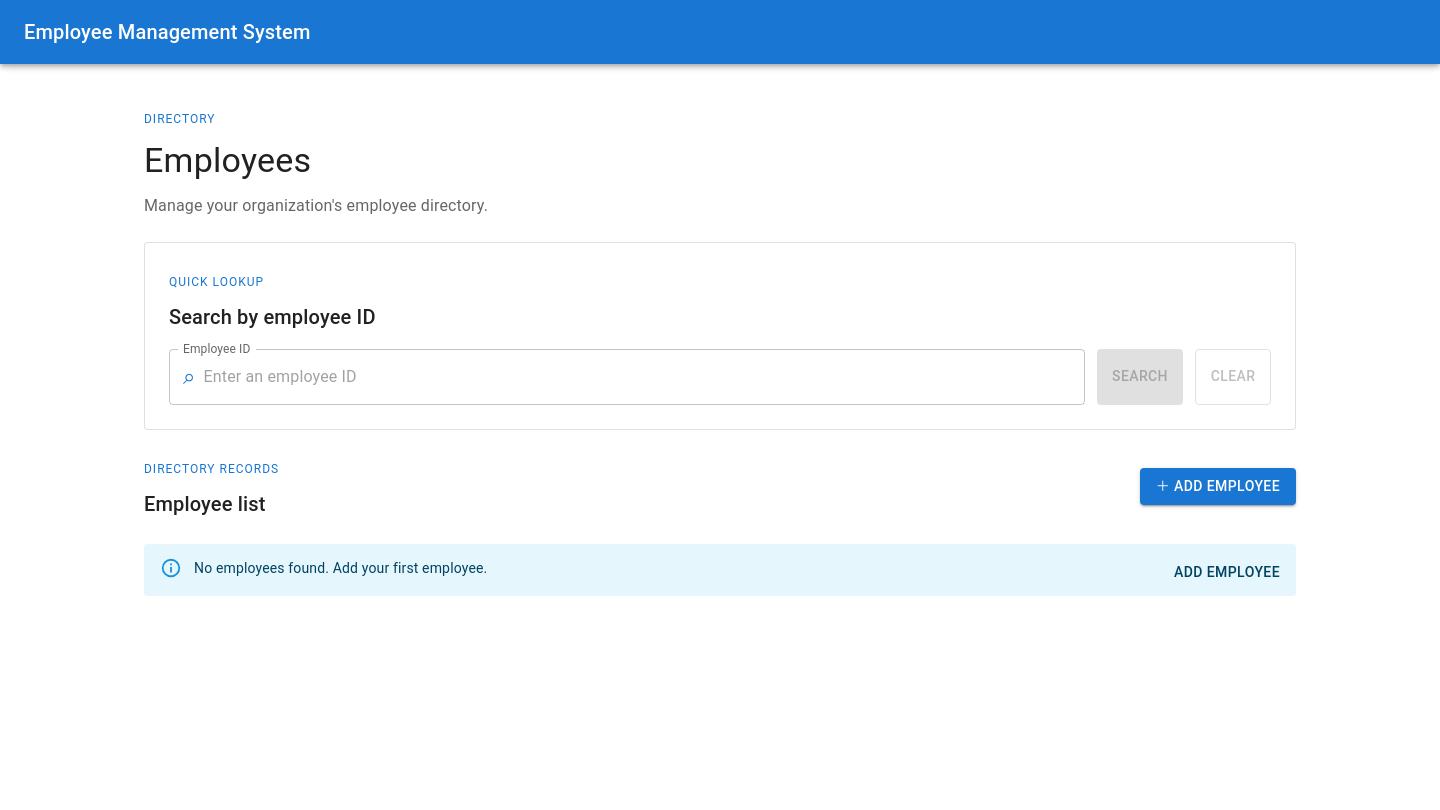
Test case: App CRUD UI flows › shows an actionable empty employee state
expect the text "No employees found. Add your first employee." is shown: met, box [194, 560, 487, 576]
What coordinates should you click on to do the following:
click the button "Add Employee"
I would click on:
 (1227, 572)
Its box is [1166, 554, 1288, 590].
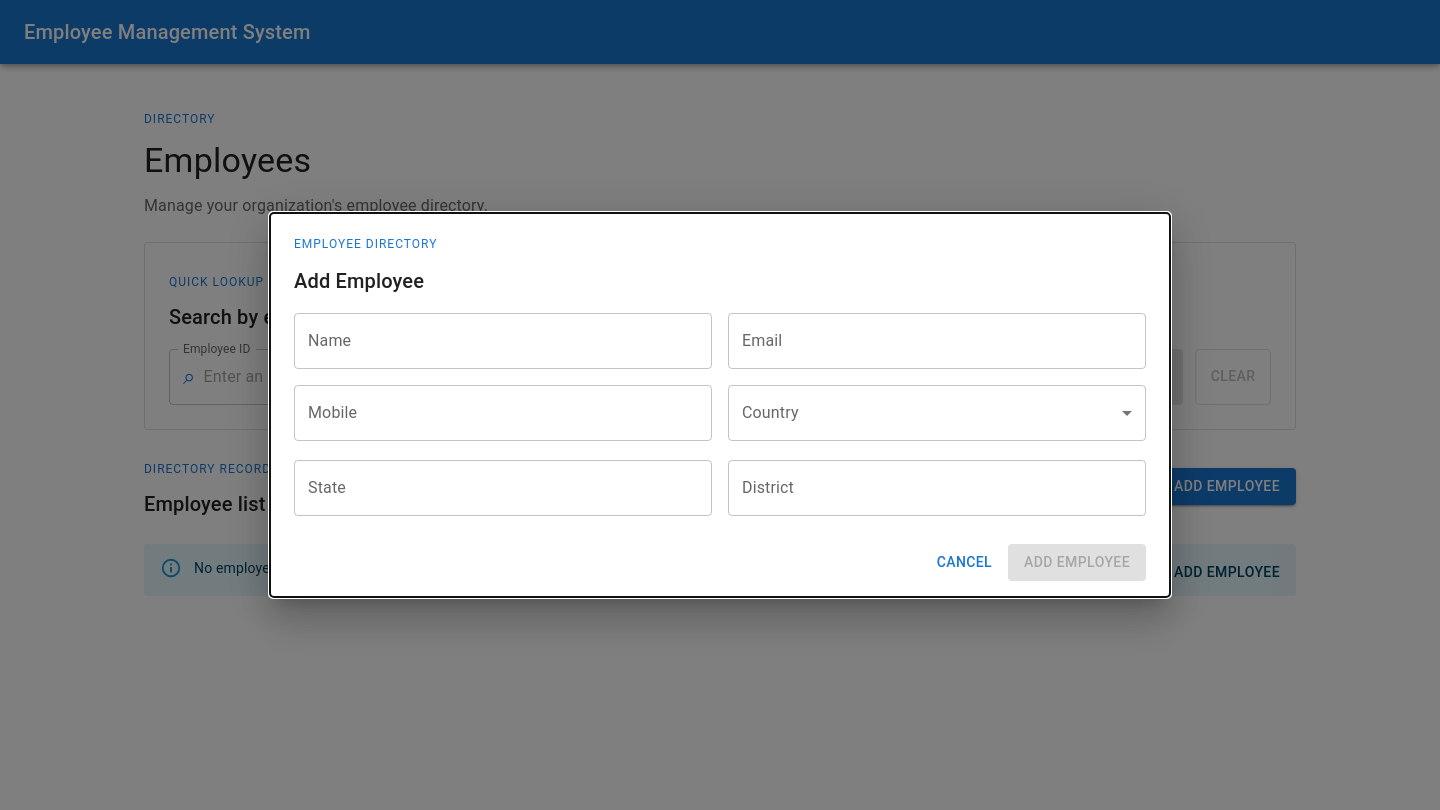
expect the heading "Add Employee" is shown: met, box [294, 269, 424, 293]
